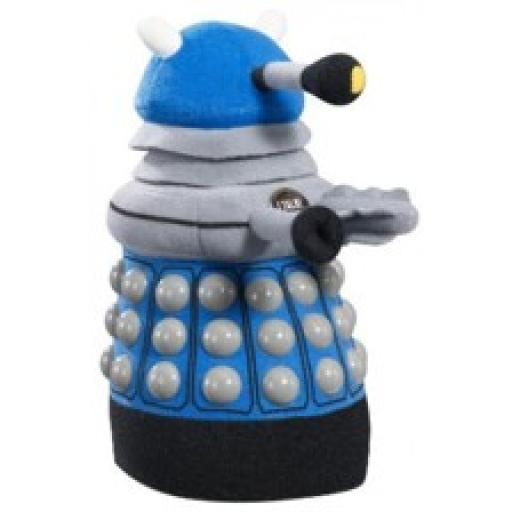dalek: (80, 6, 418, 506)
